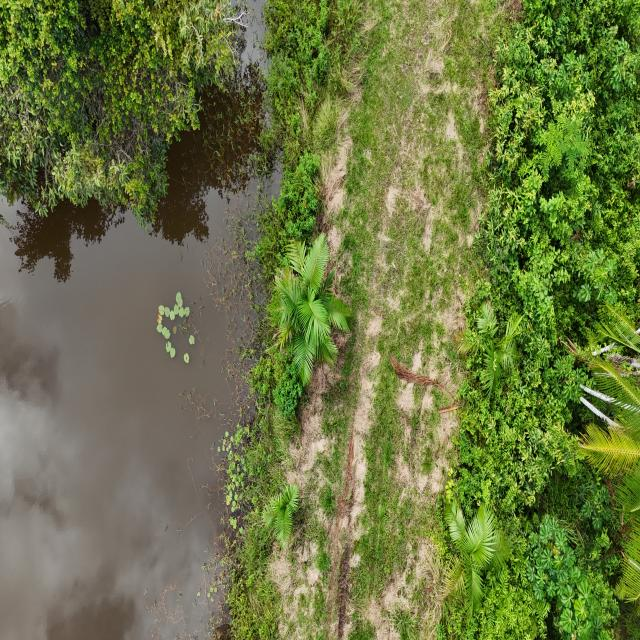vegetation: (438, 1, 639, 637), (0, 0, 247, 232), (265, 231, 352, 388)
